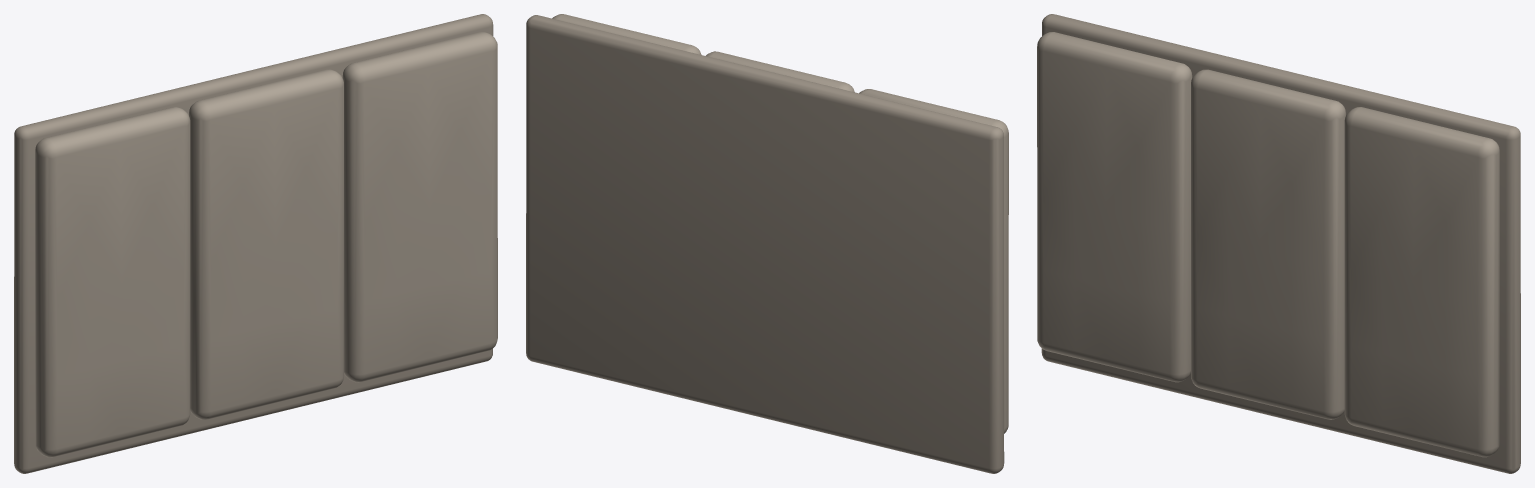
Rendered from upholstered-headboard.glb.
The picture shows the model from 3 angles, left to right: view 1: azimuth 30°, elevation 25°; view 2: azimuth 150°, elevation 25°; view 3: azimuth 330°, elevation 25°; orthographic projection.
Parts seen in each view (by area): view 1: EQ_Mobile_upholstered-headboard_Upholstery; view 2: EQ_Mobile_upholstered-headboard_Upholstery; view 3: EQ_Mobile_upholstered-headboard_Upholstery.
Boxes of the visible parts, x1,y1,x2,y2 form: EQ_Mobile_upholstered-headboard_Upholstery: (14, 14, 497, 473); EQ_Mobile_upholstered-headboard_Upholstery: (526, 14, 1008, 473); EQ_Mobile_upholstered-headboard_Upholstery: (1037, 14, 1520, 473).
Bounding box in the file's own units: 1.7 × 1.18 × 0.1698.
